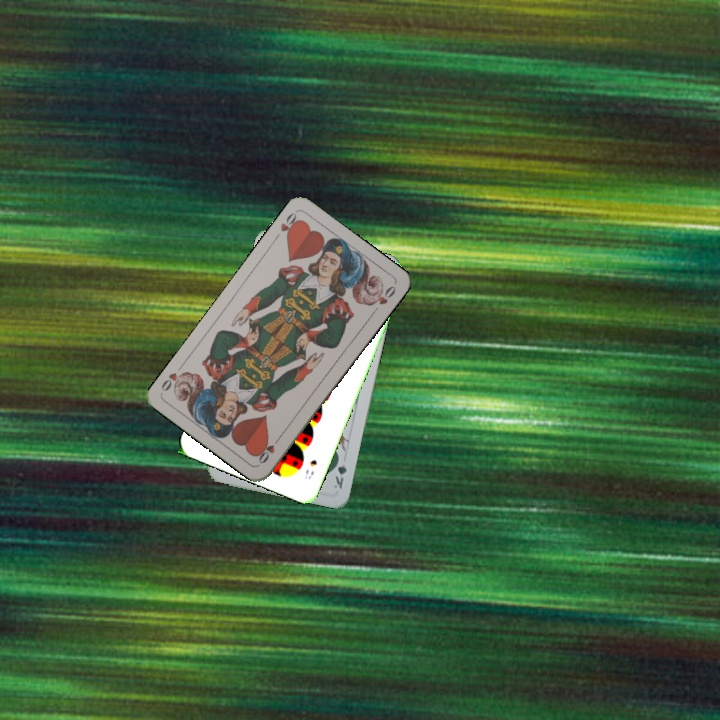GK: (329, 452, 349, 491)
HO: (271, 208, 303, 243), (254, 432, 284, 466)
S8: (300, 456, 319, 481)
